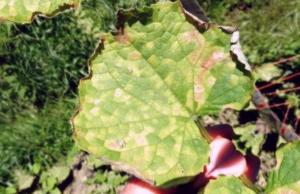Tomato leaf bacterial spot: (18, 0, 300, 194)
